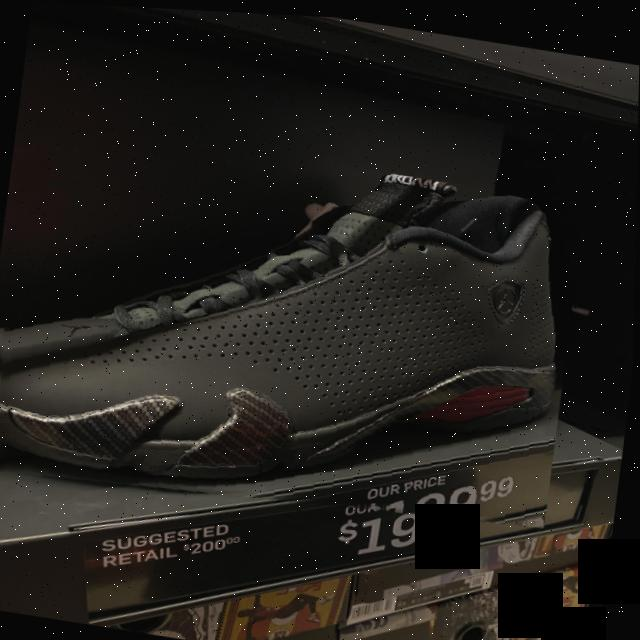shoe: (0, 114, 587, 551)
